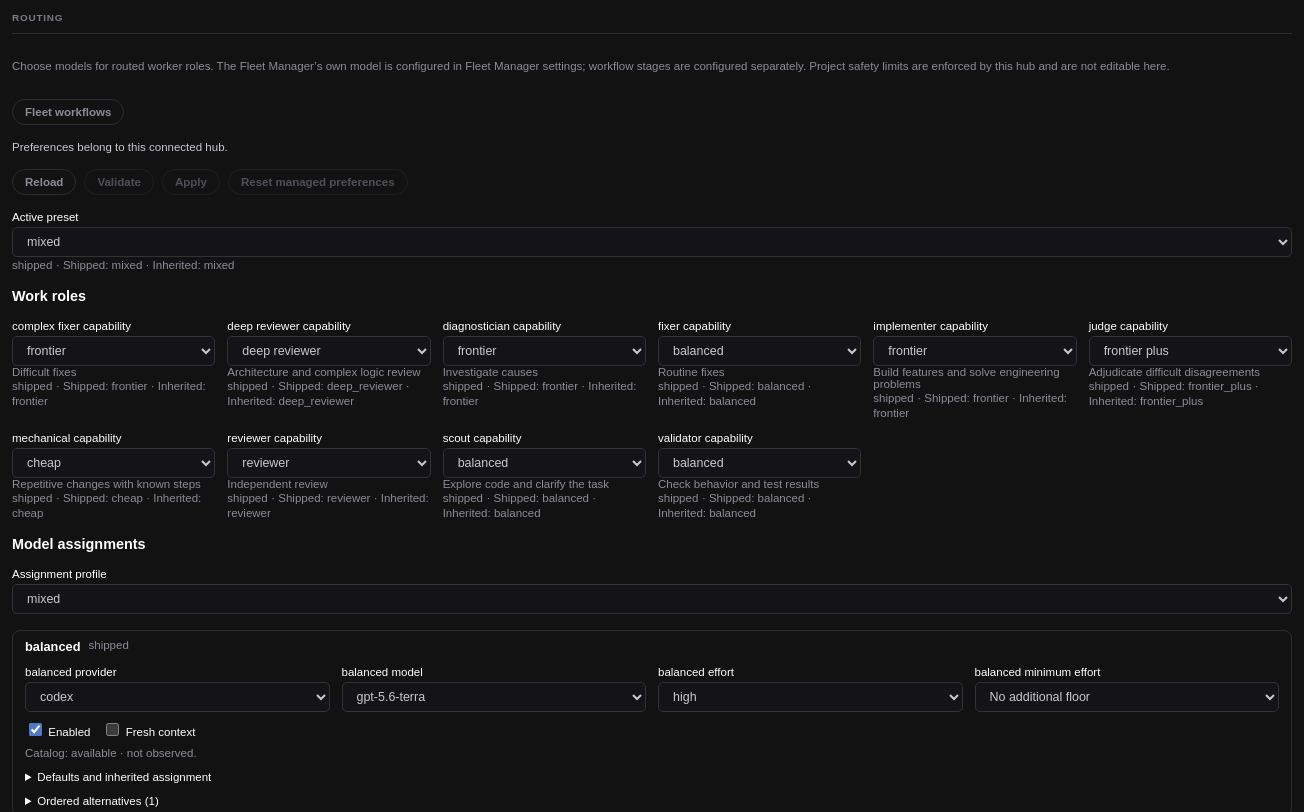
Test: Routing settings › keeps a conflicting draft unapplied and offers explicit reload
The image size is (1304, 812).
Select "codex only" in the dropdown labelled "Active preset" at (652, 242), box [12,227,1292,257]
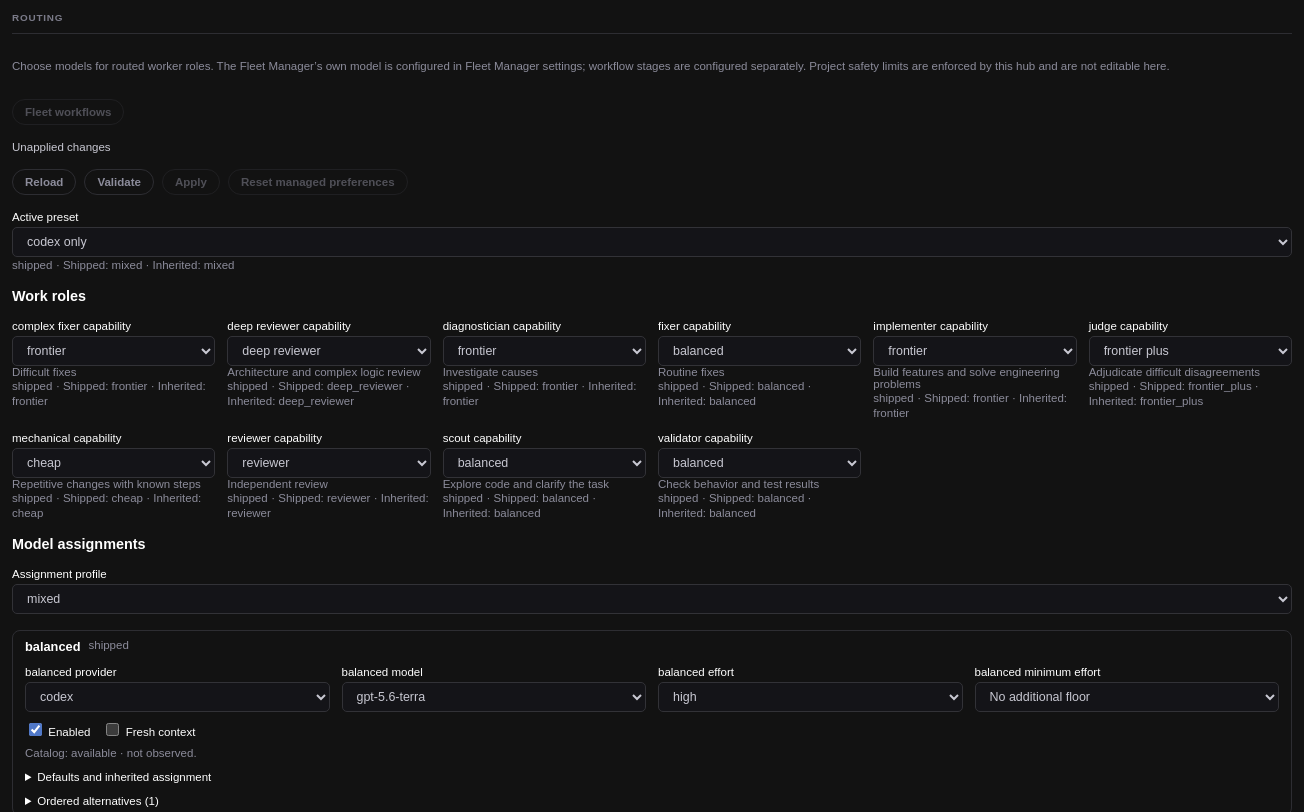
Click the button "Validate" at (119, 182), box [84,169,154,195]
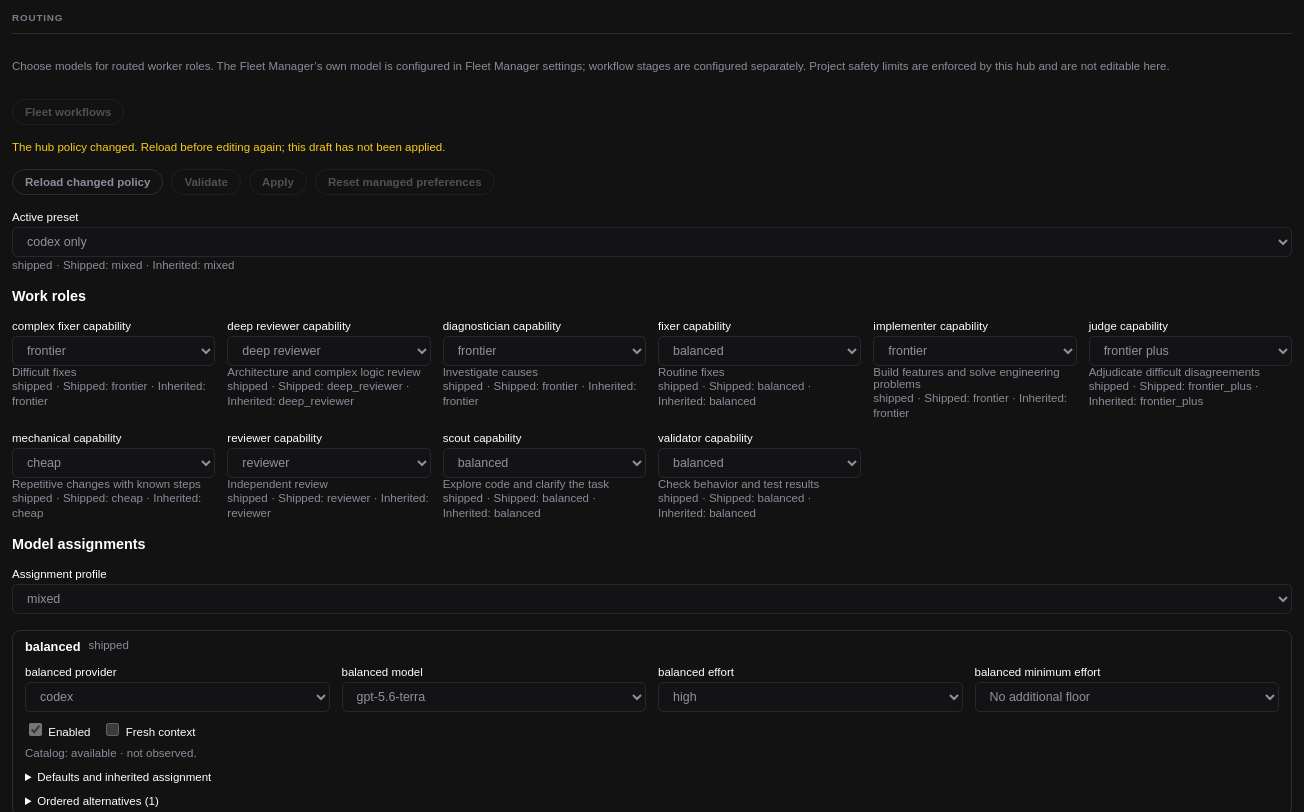
Expected: the button "Apply" is disabled, [249,169,307,195]
Now the button "Reload changed policy" is shown, box [12,169,163,195]
